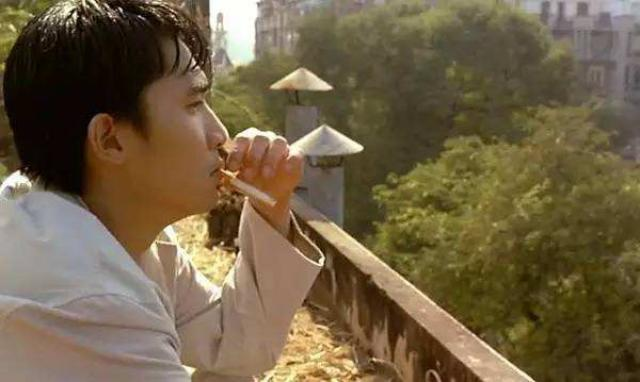Cigarette: (208, 170, 284, 206)
